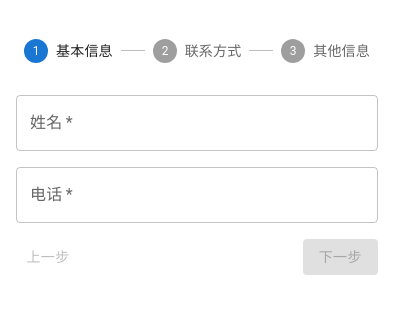
StepperExample 组件测试 › 步骤导航功能
Type "John Doe" into the field labelled "姓名 *" at (197, 123), box [16,95,378,151]
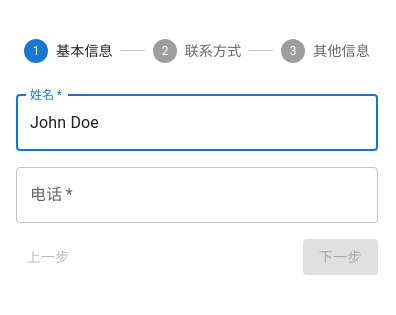
Type "13800138000" into the field labelled "电话 *" at (197, 195), box [16,167,378,223]
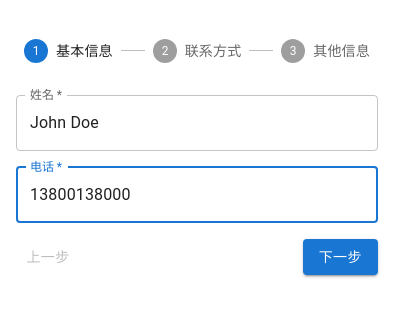
expect the button "下一步" is enabled: met
Click the button "下一步" at (340, 257), box [303,239,378,275]
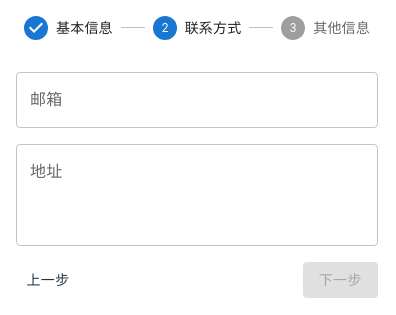
expect the field labelled "邮箱" is shown: met, box [16,72,378,128]
expect the text box labelled "地址" is shown: met, box [30,160,364,229]
